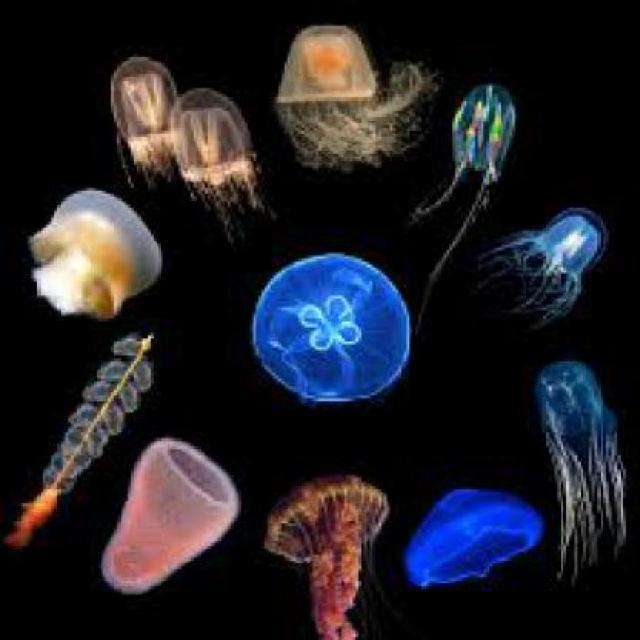Jellyfish: (238, 239, 416, 404), (270, 14, 424, 168), (528, 350, 632, 568), (256, 467, 382, 635), (26, 182, 162, 322), (423, 56, 512, 256), (398, 478, 538, 588), (168, 77, 264, 211), (494, 202, 592, 318), (102, 40, 176, 168)
